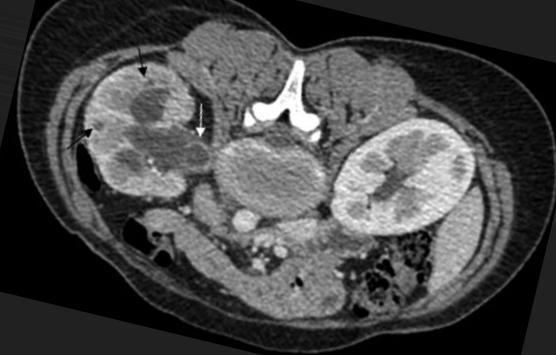anomaly: (180, 138, 218, 173)
